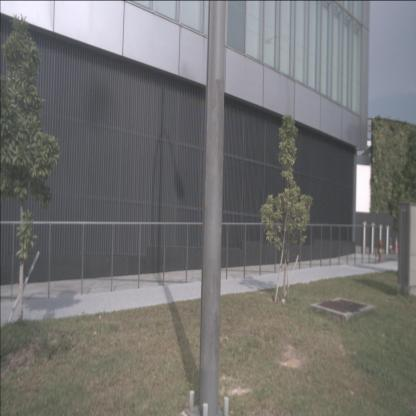movable_object-trafficcone: (394, 236, 399, 254), (388, 238, 393, 255)
